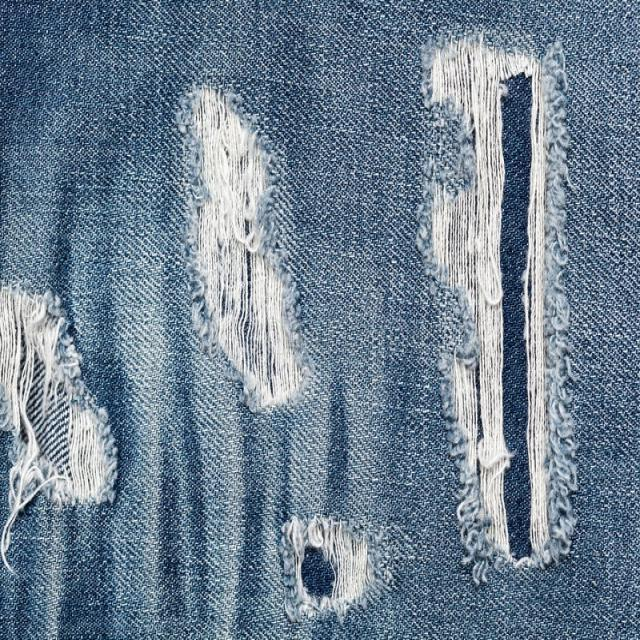Hole: (419, 35, 578, 584), (177, 85, 311, 411), (0, 287, 117, 568), (282, 517, 374, 622)
